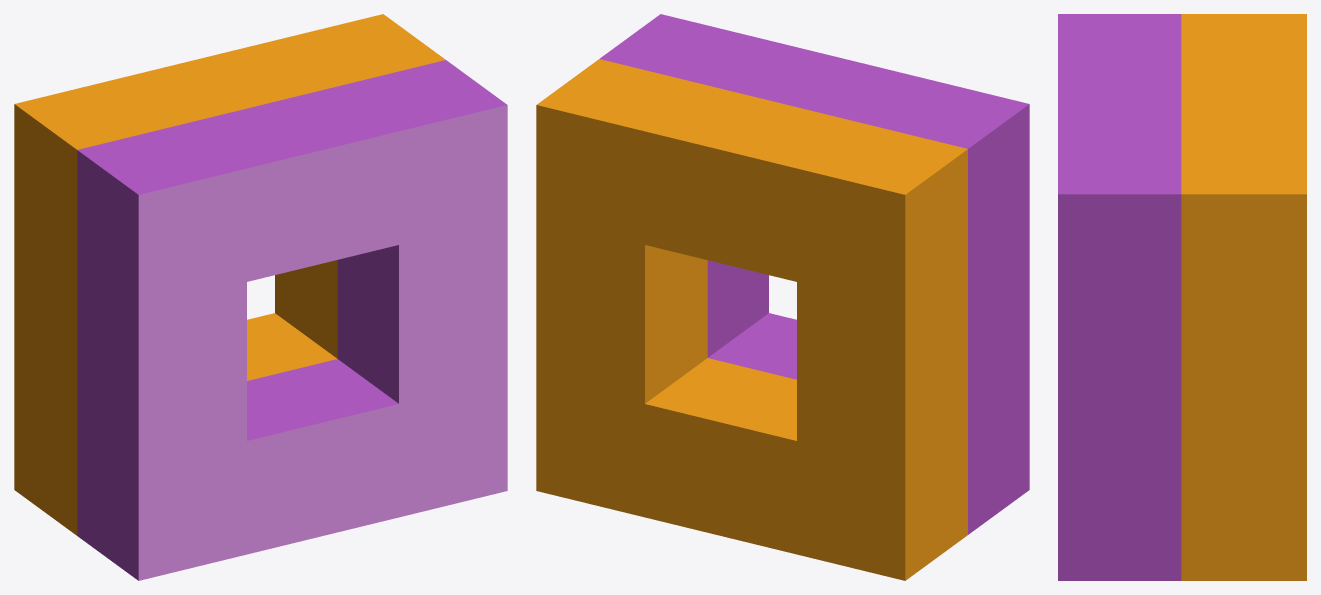
File: Paarse_donut.FBX
3 renders of one model, left to right at view 1: azimuth 30°, elevation 25°; view 2: azimuth 150°, elevation 25°; view 3: azimuth 270°, elevation 25°, orthographic.
Parts seen in each view (by area): view 1: Donut pink; view 2: Donut pink; view 3: Donut pink.
Boxes of the visible parts, left/top/right/bottom form: Donut pink: left=14, top=14, right=507, bottom=580; Donut pink: left=536, top=14, right=1029, bottom=580; Donut pink: left=1058, top=14, right=1306, bottom=580.
Size of the model in its own units: 60 by 60 by 35.
